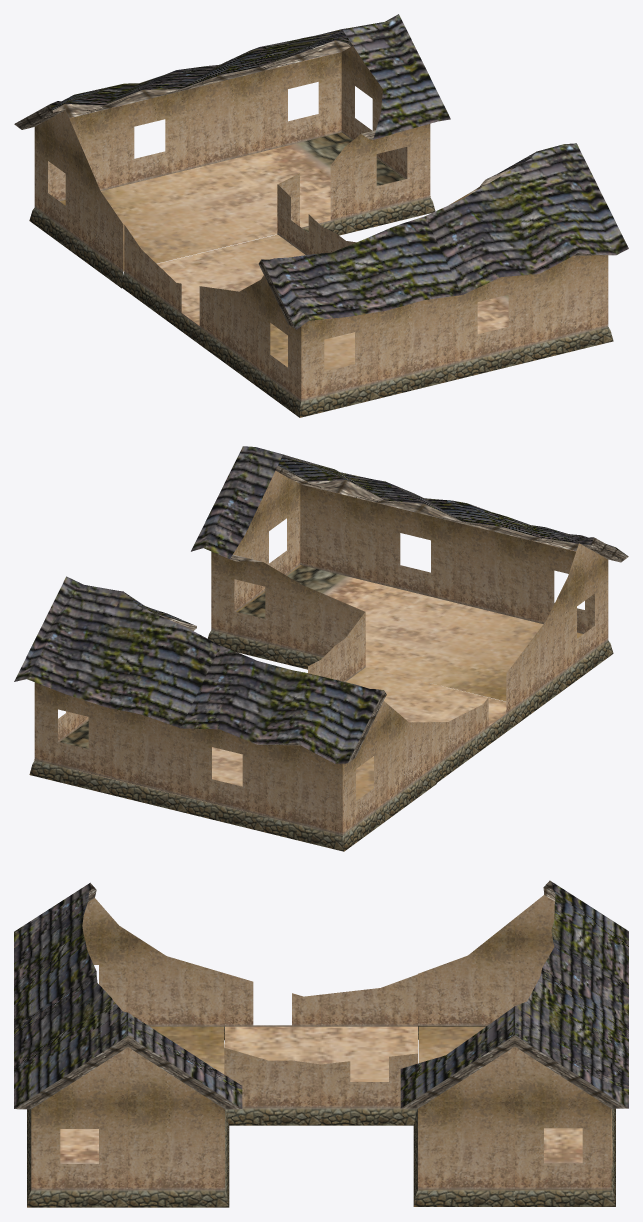
The model's file is s44_b_house_2_6_destroyed_1.dae.
3 renders of one model, top to bottom at view 1: azimuth 30°, elevation 25°; view 2: azimuth 150°, elevation 25°; view 3: azimuth 270°, elevation 25°, orthographic. The views are drawn at different scales.
Visible parts, largest first — view 1: Untitled; view 2: Untitled; view 3: Untitled.
Boxes of the visible parts, x1=… form: Untitled: x1=14, y1=14, x2=628, y2=417; Untitled: x1=14, y1=446, x2=628, y2=851; Untitled: x1=14, y1=880, x2=628, y2=1207.
Bounding box in the file's own units: 104 × 152 × 49.04.
Materials: 1 (1 with a texture image).
